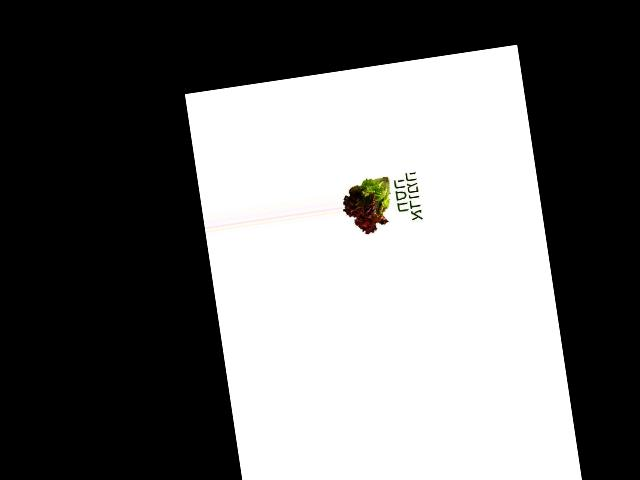lettuce: (338, 169, 398, 238)
